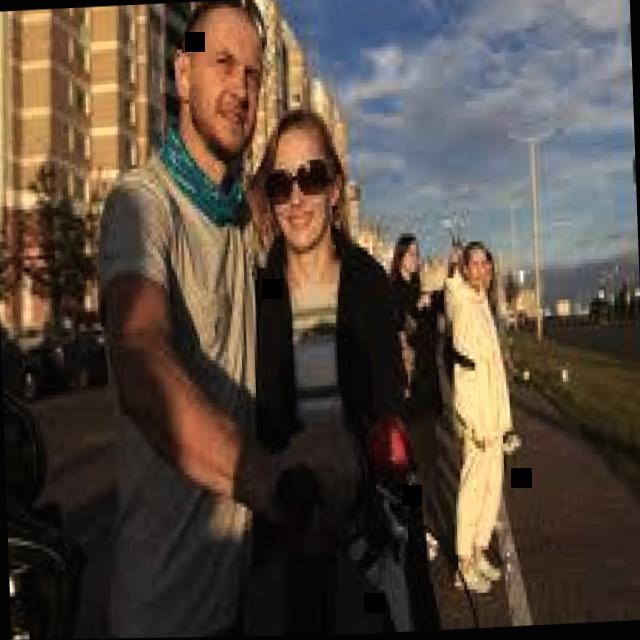NO-Mask: (188, 14, 262, 157), (268, 129, 330, 255), (466, 250, 487, 288), (400, 241, 420, 276), (484, 261, 496, 291)
